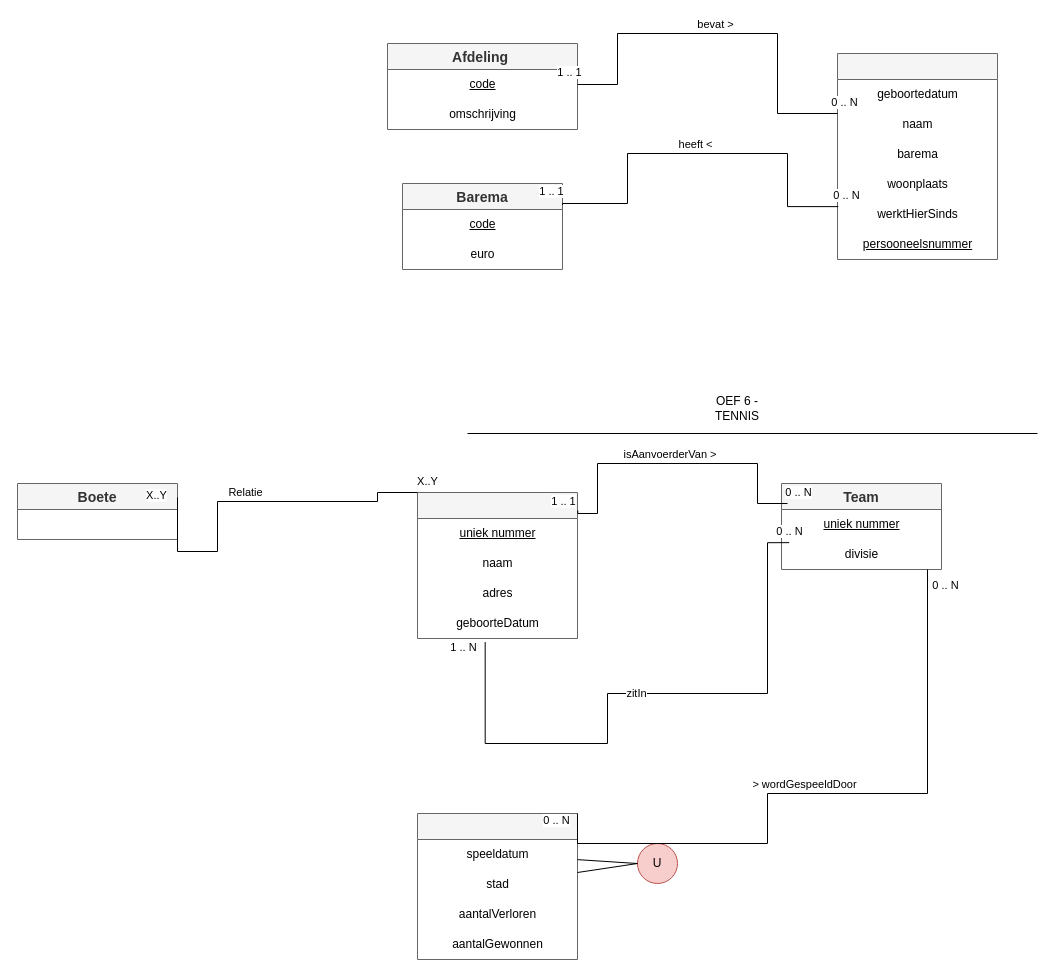
Image size: 1056x977. Some labels were removed from this diagram. Here are the shapes that lost their labels. From the top down, the box of each, then its label:
(836, 52, 998, 260): Personeelslid
(416, 492, 578, 638): Speler
(416, 812, 578, 960): Wedstrijd
